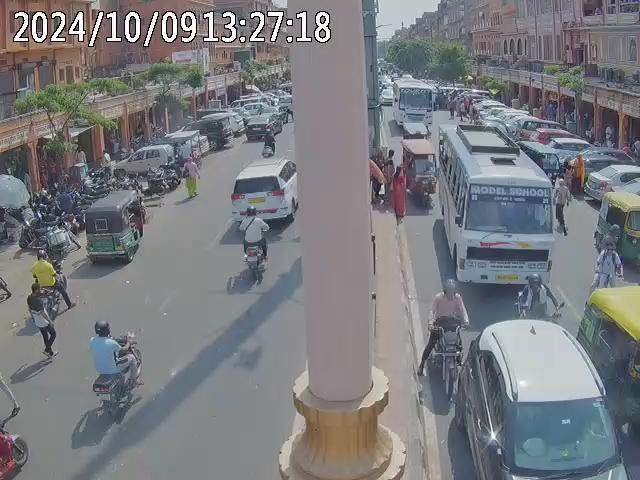auto: (576, 281, 639, 457), (81, 188, 148, 266), (595, 188, 639, 274)
bus: (437, 121, 560, 286), (393, 81, 437, 121)
car: (450, 317, 631, 479), (230, 158, 298, 227)
helmet: (93, 319, 112, 336), (443, 278, 458, 299), (528, 273, 542, 288), (246, 206, 256, 214)
motorbike-rider: (86, 318, 143, 420), (422, 286, 468, 403), (28, 247, 73, 322), (239, 207, 271, 284)
person: (24, 271, 60, 364)
scooty-rider: (260, 128, 276, 158)
